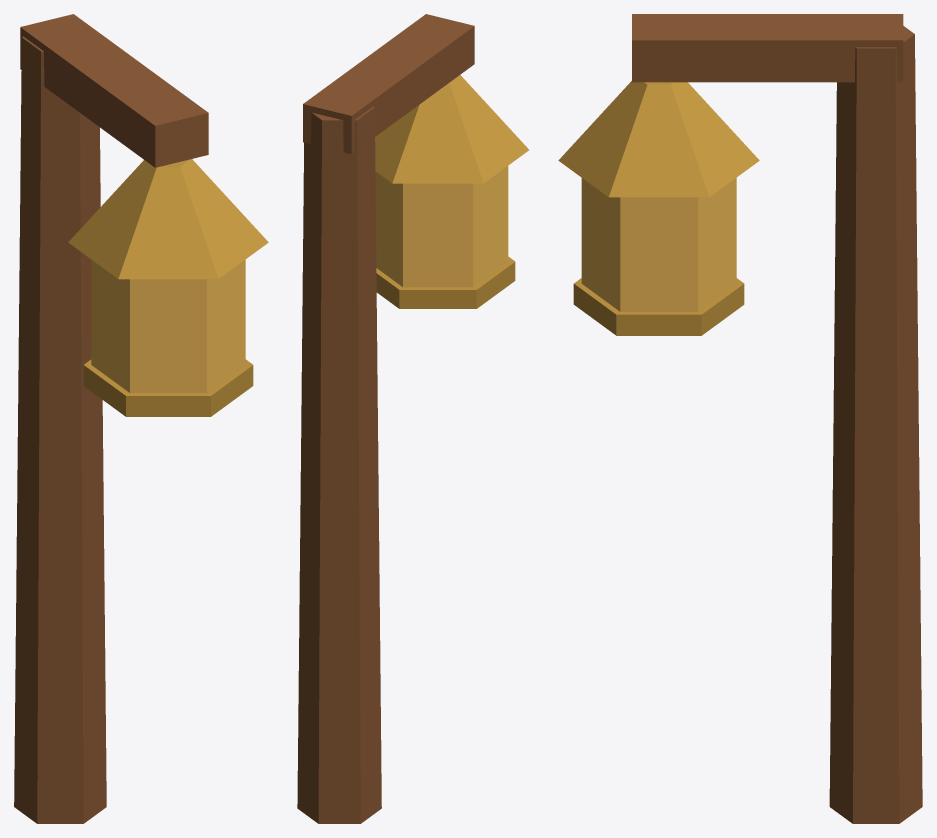
Rendered from lantern.glb.
The picture shows the model from 3 angles, left to right: view 1: azimuth 30°, elevation 25°; view 2: azimuth 150°, elevation 25°; view 3: azimuth 270°, elevation 25°; orthographic projection. The views are drawn at different scales.
Parts seen in each view (by area): view 1: lantern; view 2: lantern; view 3: lantern.
Boxes of the visible parts, x1=… form: lantern: x1=14, y1=14, x2=268, y2=823; lantern: x1=297, y1=14, x2=528, y2=823; lantern: x1=558, y1=14, x2=922, y2=823.
Size of the model in its own units: 0.2252 by 1.11 by 0.47.
